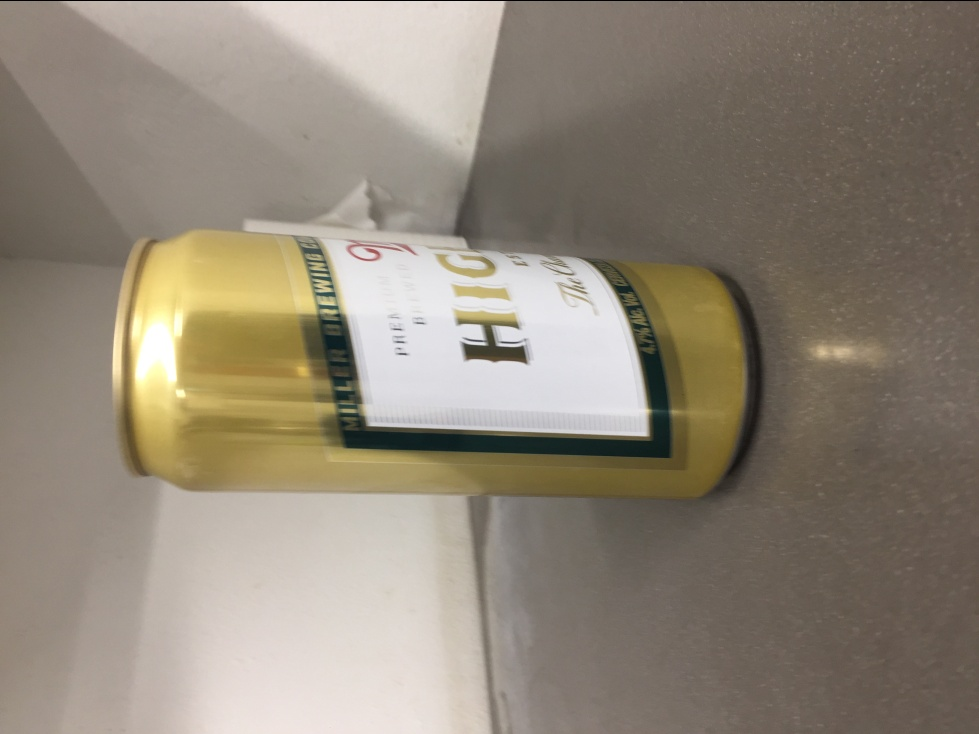miller: (112, 224, 755, 502)
